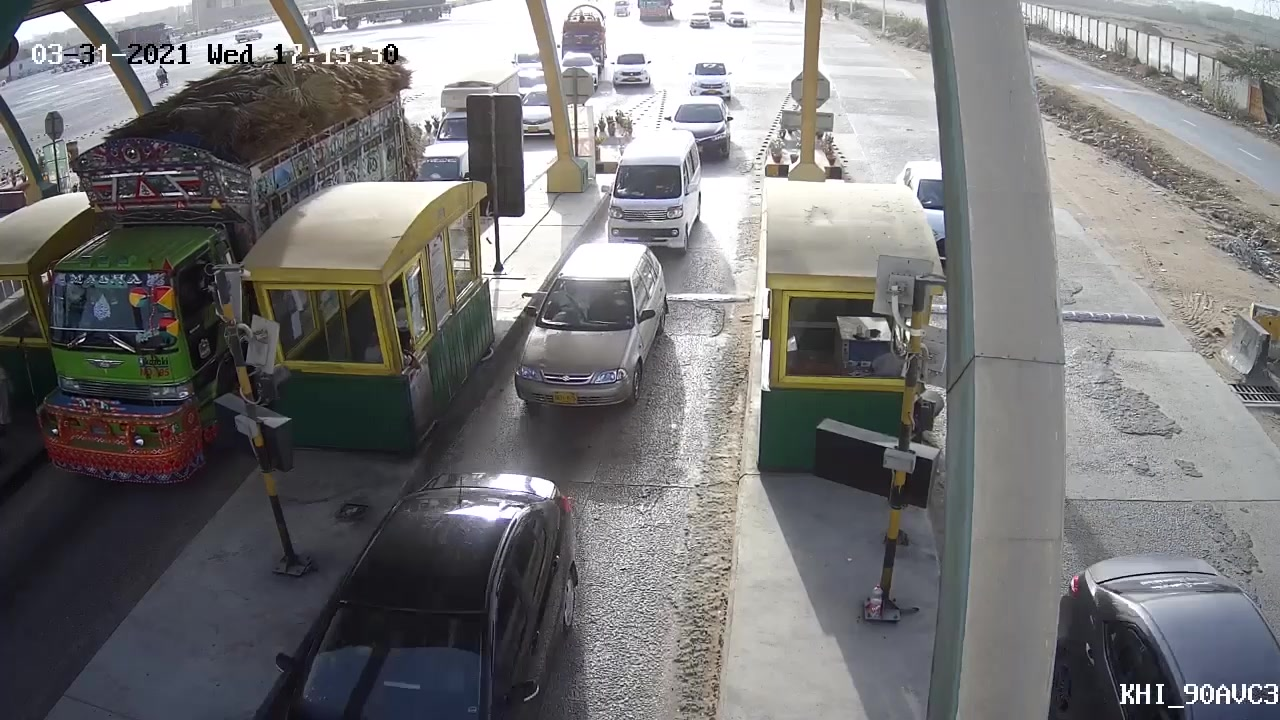F1: (503, 234, 674, 421), (604, 132, 702, 256)
